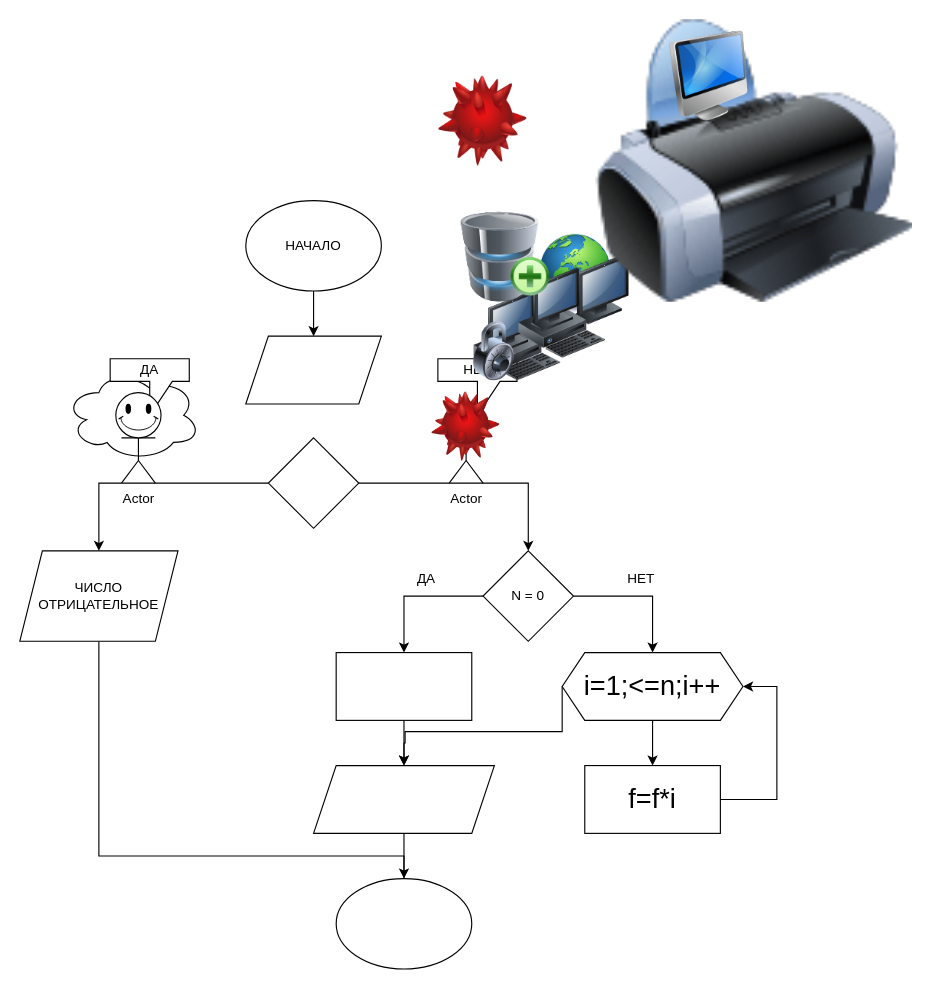
This 938x989 diagram has some shape labels left out. Here are the shapes that lost their labels. From the top down, the box of each, then its label:
(245, 335, 381, 404): ВВОД N
(267, 437, 359, 528): N < 0
(335, 651, 472, 720): f=1
(312, 764, 494, 833): ВЫВОД f
(335, 877, 472, 969): КОНЕЦ
